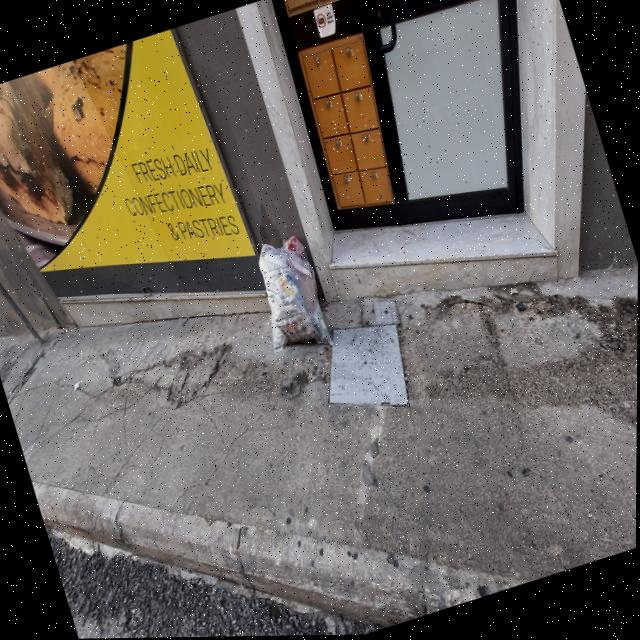Recycled Waste -Grey or Green Bag-: (244, 231, 338, 365)
